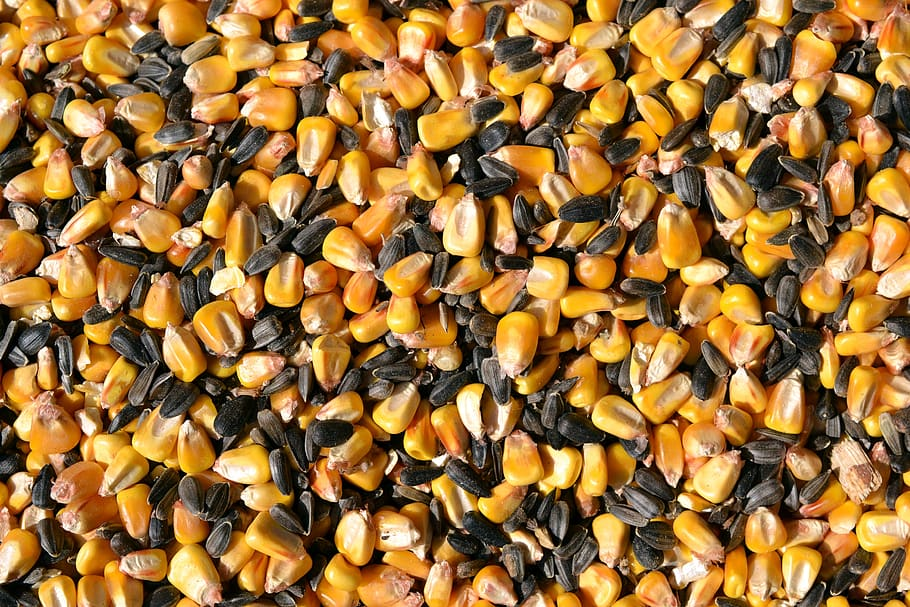seed: (1, 1, 910, 607)
